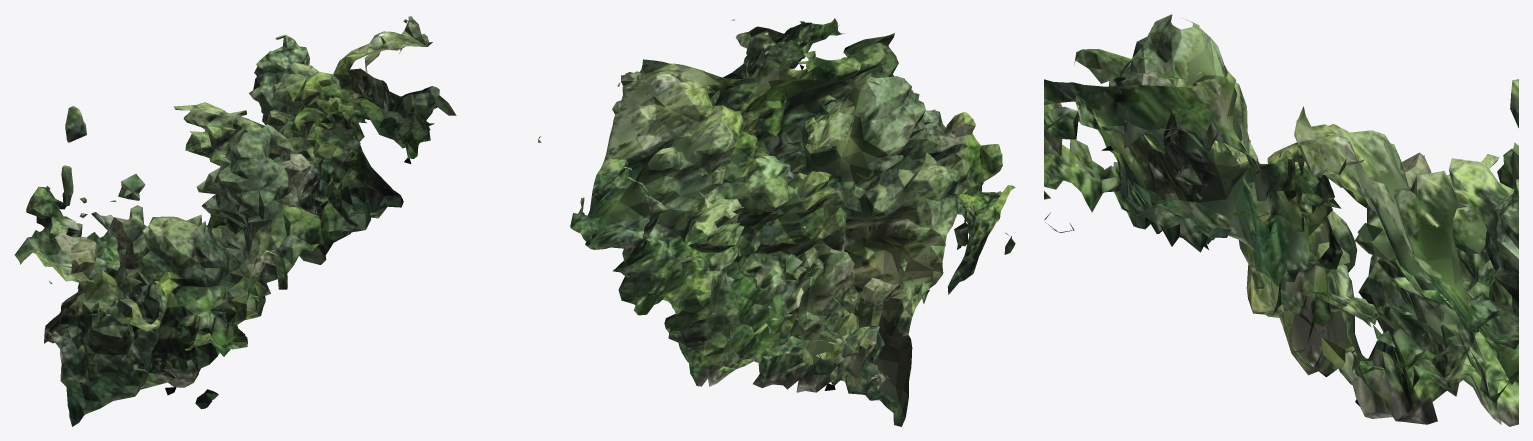
The picture shows the model from 3 angles, left to right: view 1: azimuth 30°, elevation 25°; view 2: azimuth 150°, elevation 25°; view 3: azimuth 270°, elevation 25°; orthographic projection. The views are drawn at different scales.
Bounding box in the file's own units: 52.22 × 49.69 × 52.22.
7 materials, 7 textured.
